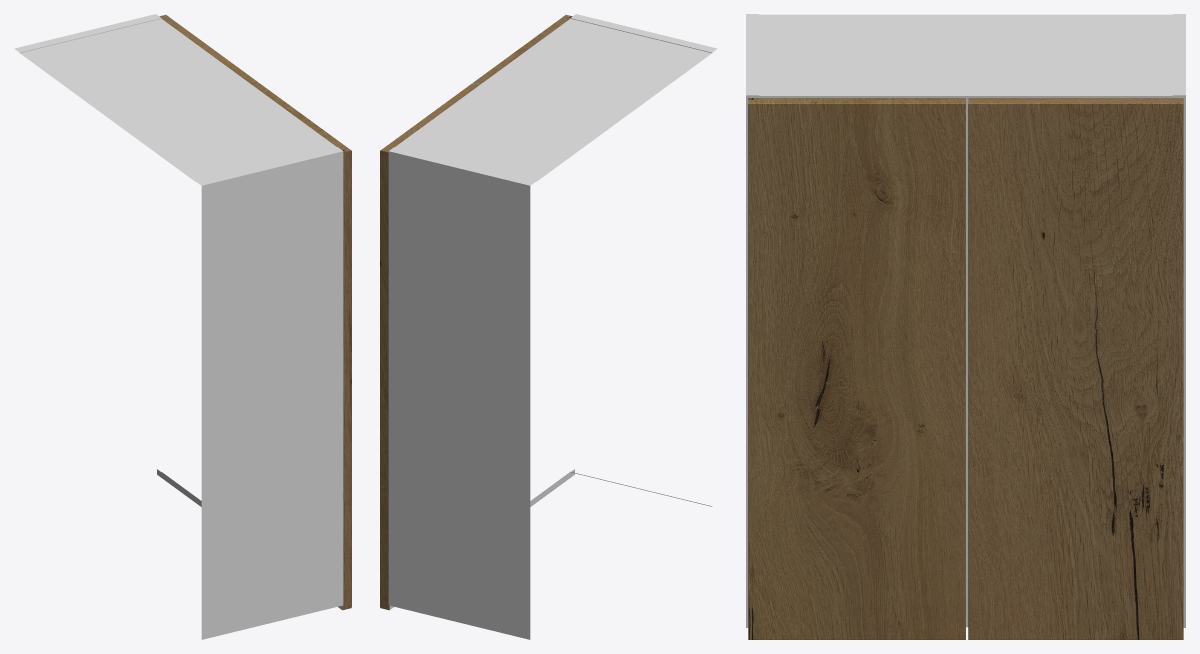
File: gornji_60cm_bez_rucica.glb
3 renders of one model, left to right at view 1: azimuth 30°, elevation 25°; view 2: azimuth 150°, elevation 25°; view 3: azimuth 270°, elevation 25°, orthographic. The views are drawn at different scales.
Parts seen in each view (by area): view 1: Group2; view 2: Group2; view 3: Group2.
Part boxes in pixels (bbox=[...]): Group2: bbox=[14, 14, 351, 639]; Group2: bbox=[380, 14, 717, 639]; Group2: bbox=[746, 14, 1185, 639].
Size of the model in its own units: 280 by 812 by 600.
3 materials, 1 textured.
